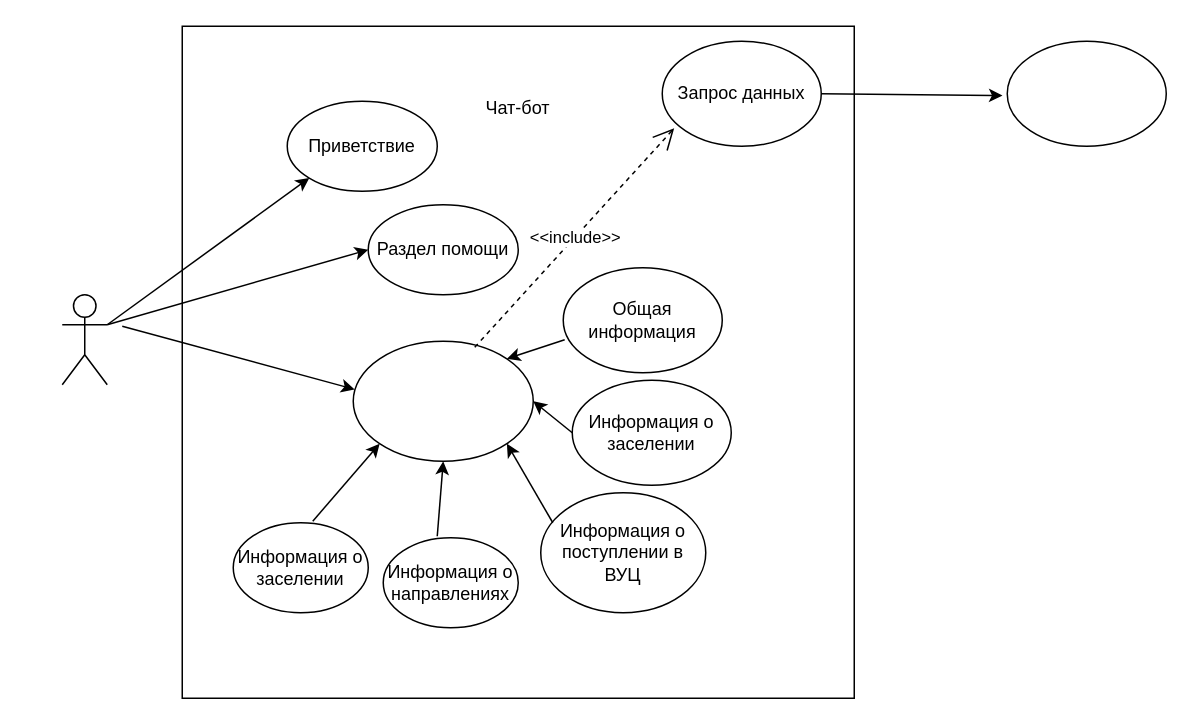
This 1193x725 diagram has some shape labels left out. Each missing label, with the centre of its shape:
"Информация о организации" belongs at (442,400).
"Пользователь" belongs at (84,339).
"Предприятие" belongs at (1086,93).
